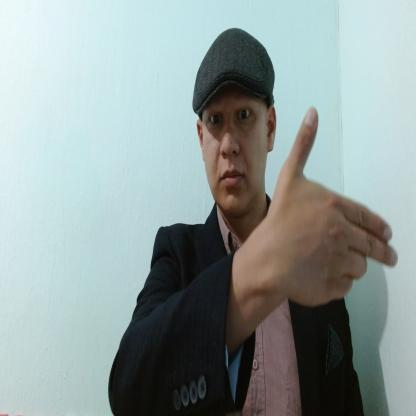H: (270, 107, 398, 307)
